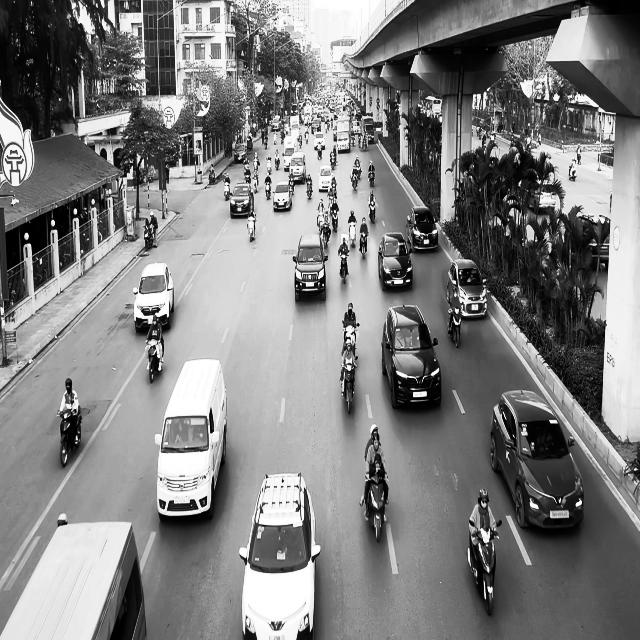car: (239, 472, 321, 639), (490, 389, 584, 530), (381, 303, 441, 409), (133, 262, 174, 332), (446, 258, 488, 320), (292, 233, 328, 302), (378, 232, 413, 290), (406, 206, 439, 252), (230, 182, 253, 218), (273, 180, 292, 212), (317, 165, 333, 191)
motorbike: (467, 519, 501, 615), (364, 471, 387, 542), (57, 407, 82, 467), (340, 356, 358, 414), (145, 336, 164, 384), (448, 303, 463, 348), (342, 322, 359, 358), (338, 250, 349, 284), (143, 223, 154, 250), (367, 194, 377, 222), (247, 214, 256, 242), (359, 233, 368, 258), (348, 220, 356, 247), (568, 157, 577, 180), (306, 175, 312, 198), (224, 179, 230, 201), (264, 180, 270, 199)
truck: (0, 512, 146, 640), (154, 358, 228, 520)
